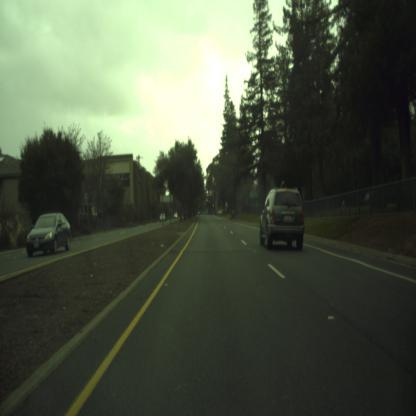Red: (206, 196, 208, 202), (213, 203, 214, 208)
RedLeft: (198, 203, 200, 209)
